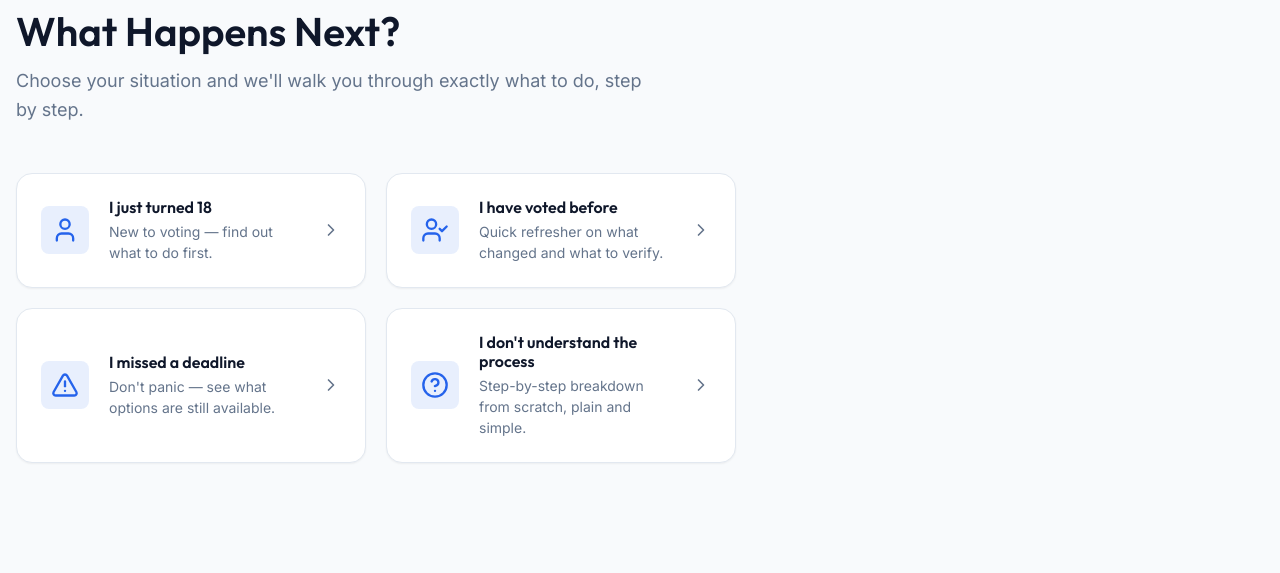
Guide Page › switches scenarios when a card is clicked
# Click "I have voted before" card
Click the button "I have voted before": (561, 230) x1=386 y1=173 x2=736 y2=288
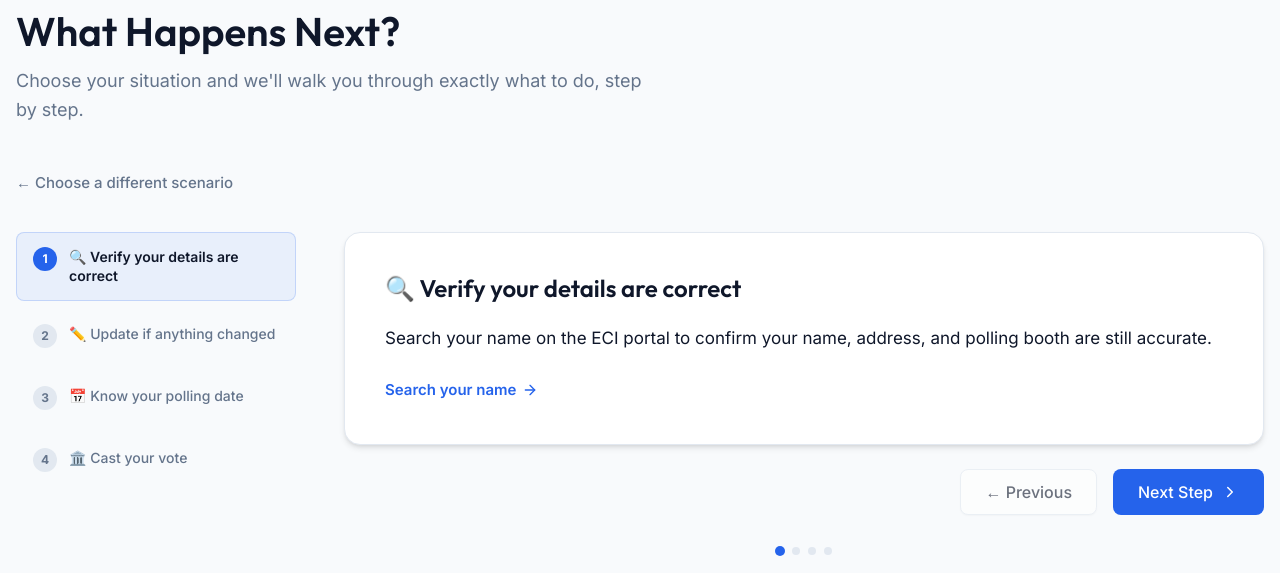
Now the text "🔍 Verify your details are correct" is shown, box x1=69 y1=248 x2=238 y2=284
